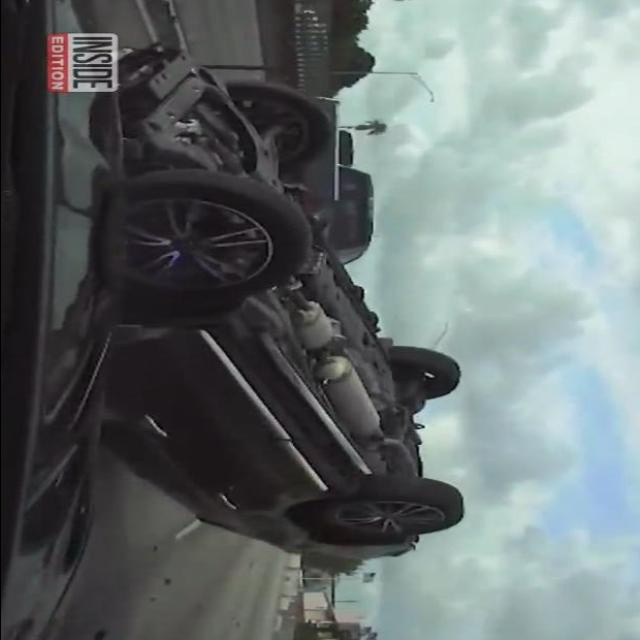accident: (106, 50, 470, 554)
